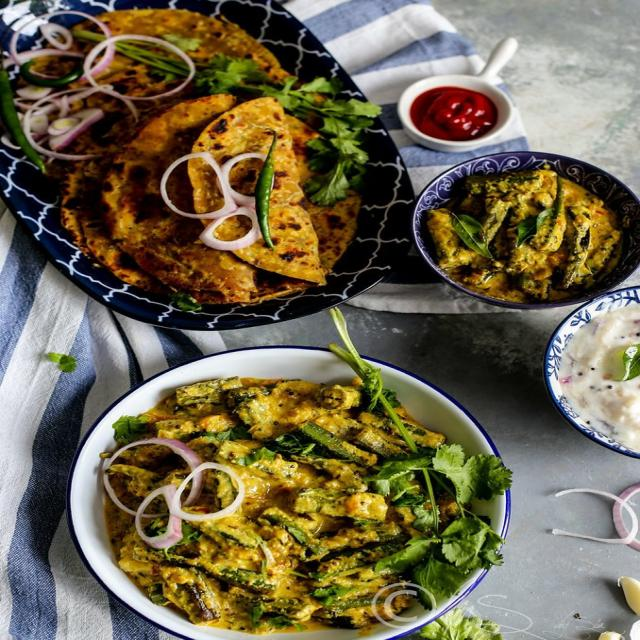BhindiMasala: (100, 376, 510, 635)
